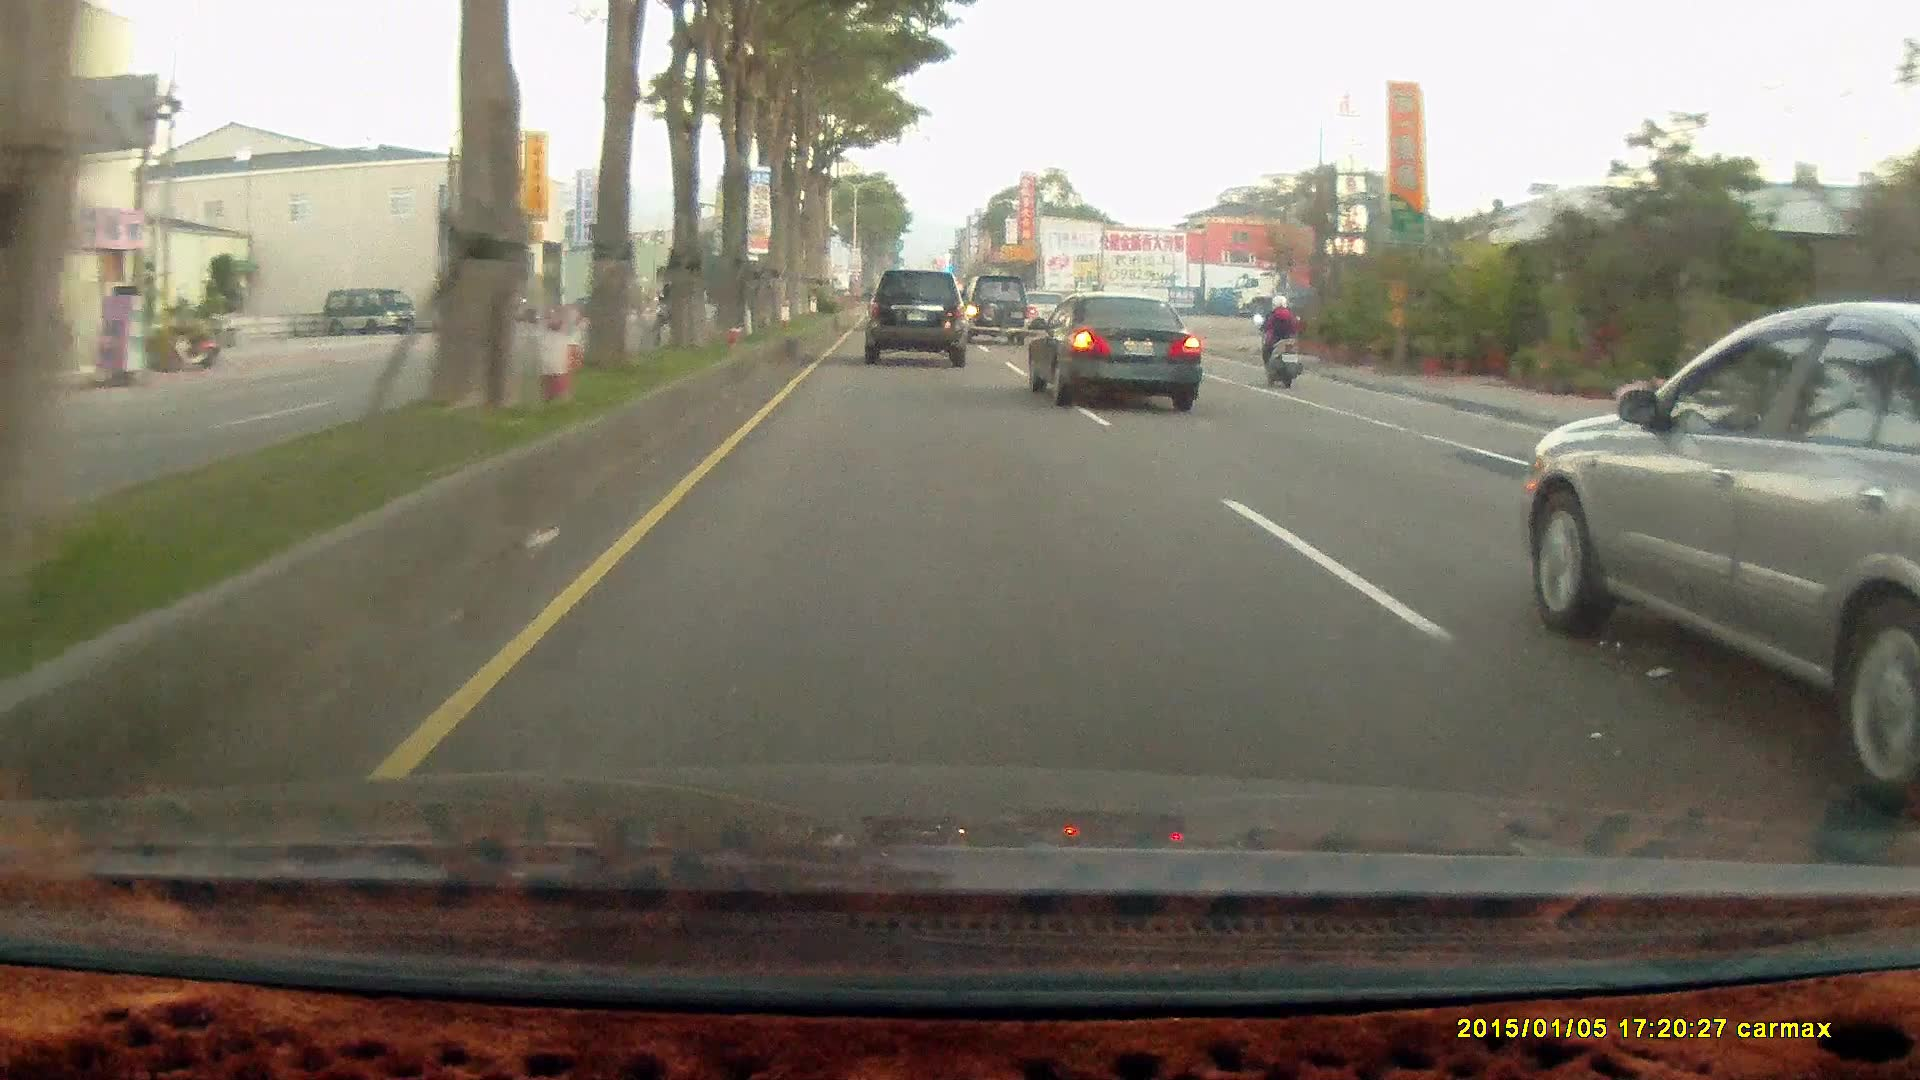rider: (1248, 286, 1311, 395), (1252, 288, 1302, 384)
vehicle: (1516, 292, 1919, 810), (1027, 289, 1206, 408), (1027, 290, 1201, 411), (1236, 268, 1451, 320), (863, 265, 971, 365), (861, 266, 967, 364), (959, 272, 1031, 347), (323, 282, 426, 334), (321, 287, 411, 335)
